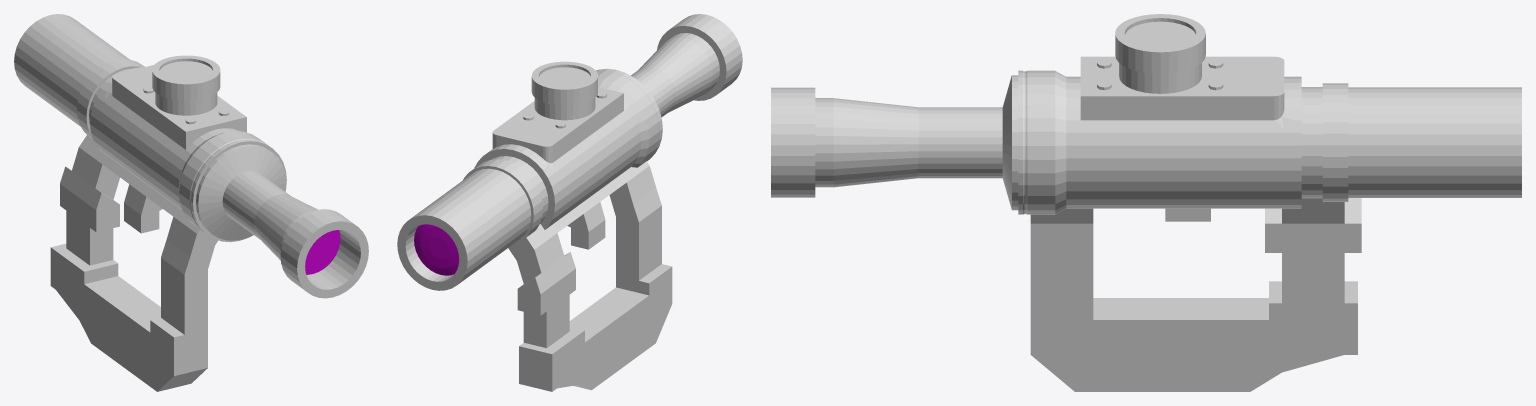
Rendered from 4x_scope_ru_3.fbx.
The picture shows the model from 3 angles, left to right: view 1: azimuth 30°, elevation 25°; view 2: azimuth 150°, elevation 25°; view 3: azimuth 270°, elevation 25°; orthographic projection. The views are drawn at different scales.
Parts seen in each view (by area): view 1: Cylinder.001; view 2: Cylinder.001; view 3: Cylinder.001.
Boxes of the visible parts, left/top/right/bottom form: Cylinder.001: left=14, top=14, right=368, bottom=391; Cylinder.001: left=397, top=14, right=742, bottom=391; Cylinder.001: left=771, top=14, right=1521, bottom=391.
Size of the model in its own units: 3.4 by 15.4 by 8.52.
